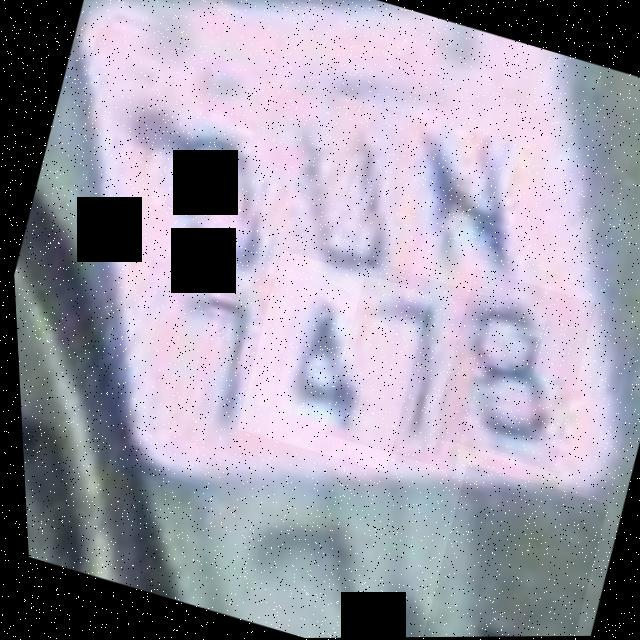4: (225, 252, 434, 474)
7: (118, 245, 307, 464), (312, 261, 501, 473), (401, 463, 607, 638)
8: (420, 268, 599, 474)
N: (355, 95, 562, 301)
O: (119, 98, 312, 294)
U: (226, 82, 452, 305)
